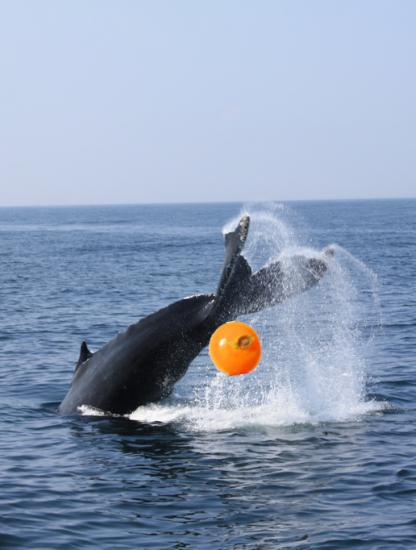Physalis: (208, 321, 263, 376)
